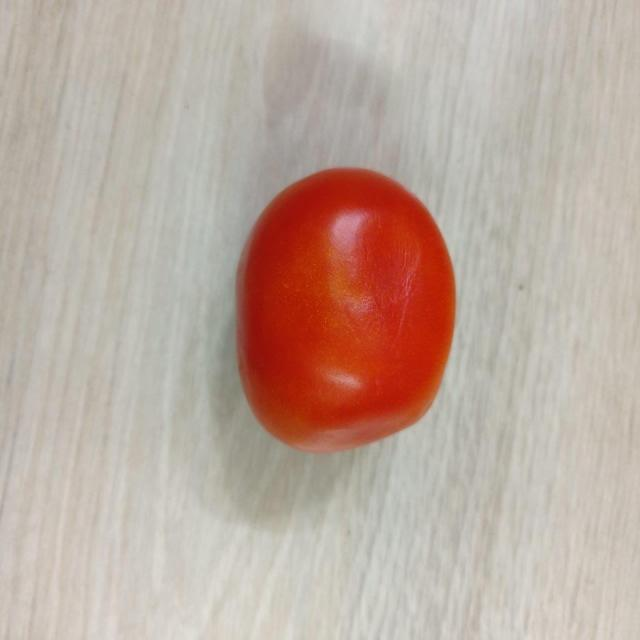Tomato: (231, 162, 460, 457)
